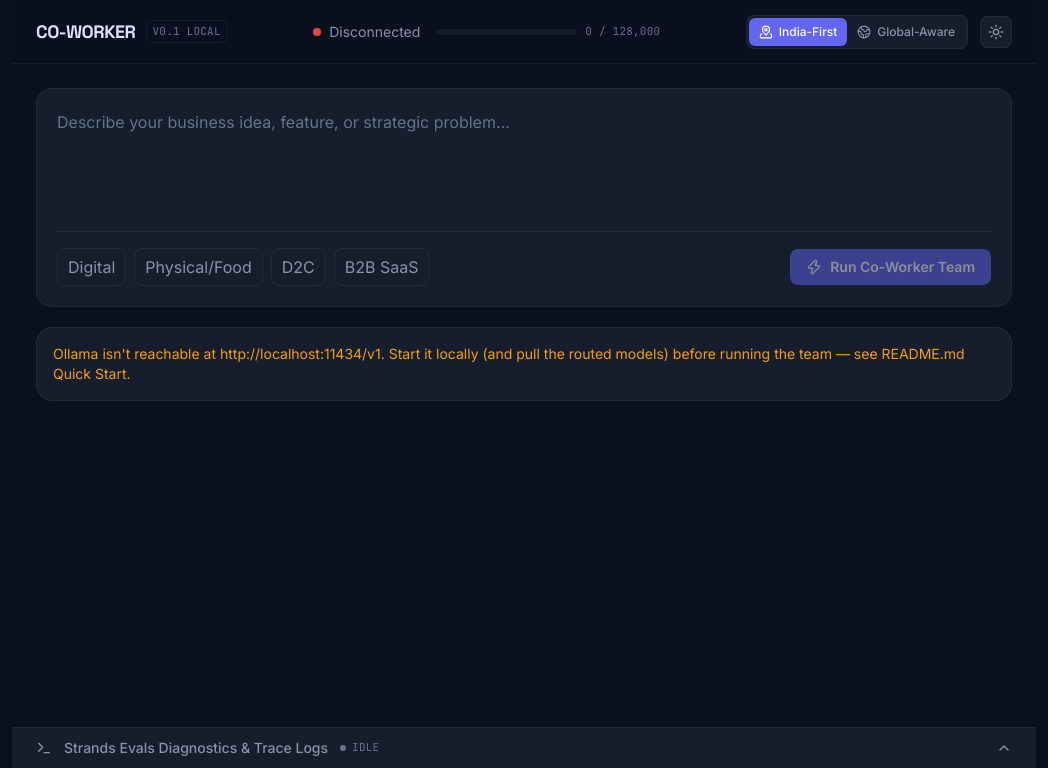
App: error alert banner › shows the error banner and hides the skeleton when the stream reports an error
The width and height of the screenshot is (1048, 768).
Later steps or results of the test are not shown.
Type "an idea" into the text box with placeholder "Describe your business idea, feature, or strategic problem…" at (524,159), box 57,109 -> 991,209
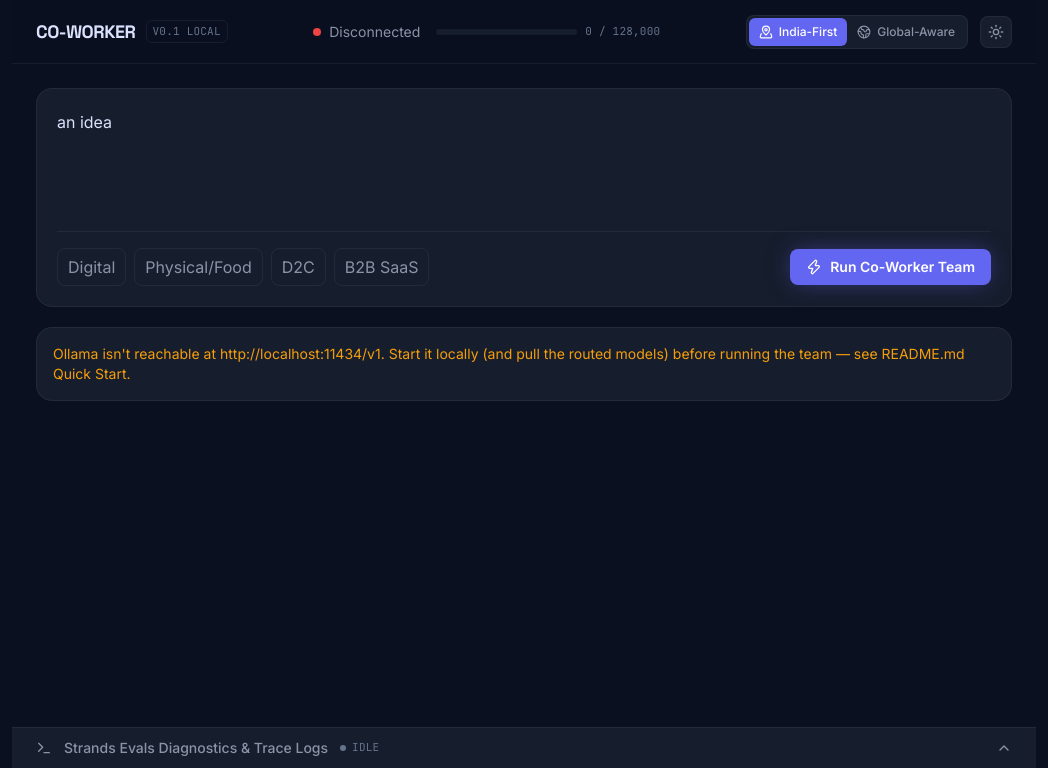
Click the button "Run Co-Worker Team" at (891,267), box 790,249 -> 991,285
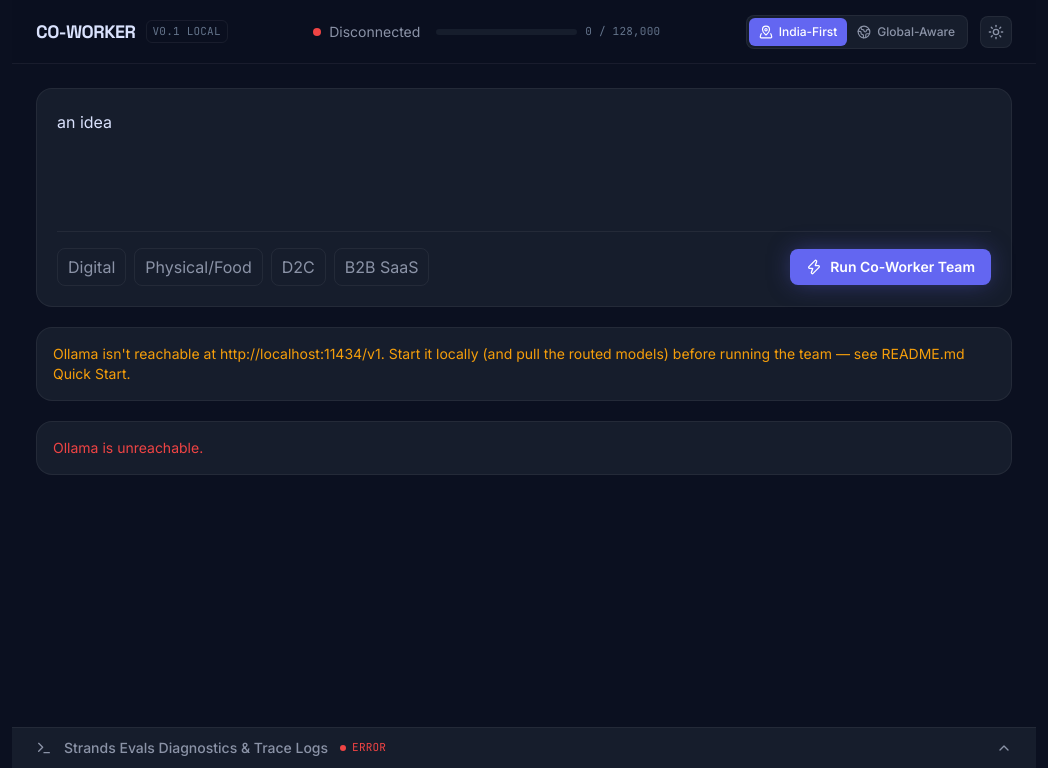
Check: the text "Ollama is unreachable." is shown, box 36,421 -> 1012,475
